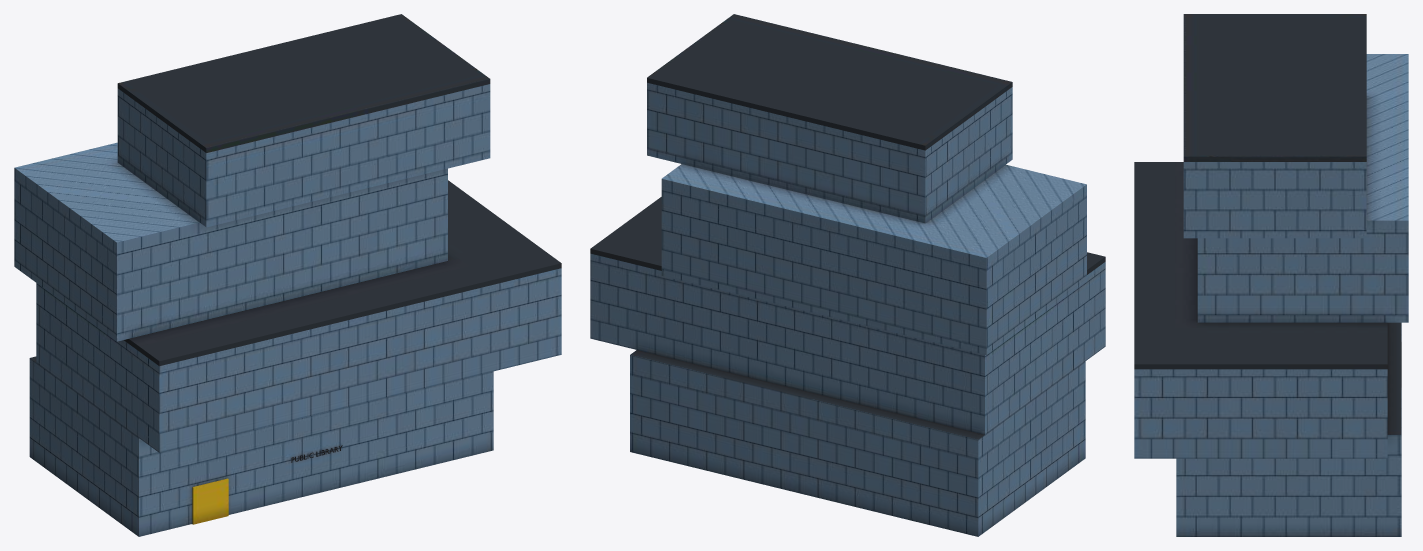
File: biblioteca_seattle.glb
3 views of the same model, side by side, from view 1: azimuth 30°, elevation 25°; view 2: azimuth 150°, elevation 25°; view 3: azimuth 270°, elevation 25° (orthographic). The views are drawn at different scales.
Visible parts, largest first — view 1: biblioteca_seattle; view 2: biblioteca_seattle; view 3: biblioteca_seattle.
Part boxes in pixels (x1=…): biblioteca_seattle: x1=14, y1=14, x2=561, y2=536; biblioteca_seattle: x1=590, y1=14, x2=1105, y2=536; biblioteca_seattle: x1=1134, y1=14, x2=1408, y2=536.
Bounding box in the file's own units: 35 × 29.8 × 19.5.
1 material, 1 textured.
